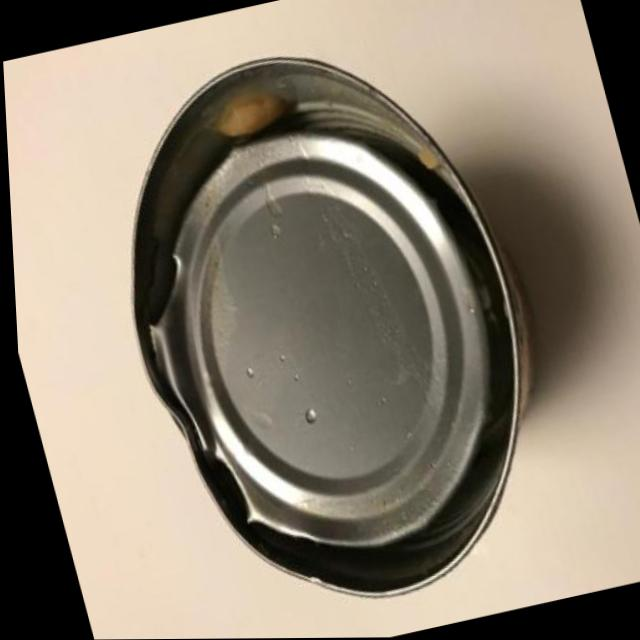metal: (62, 5, 602, 640)
